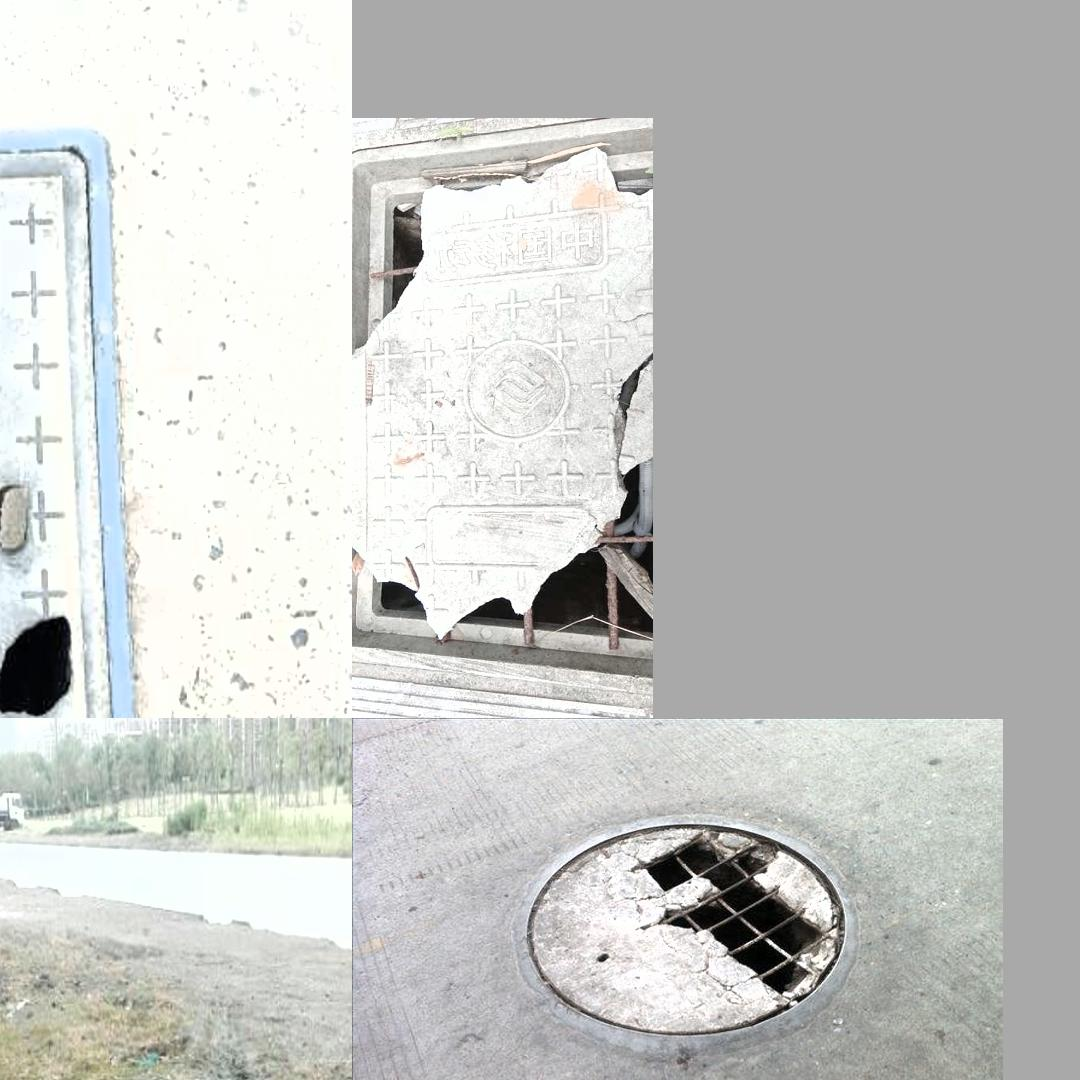broke: (352, 128, 651, 684), (502, 810, 880, 1053), (0, 129, 142, 718)
